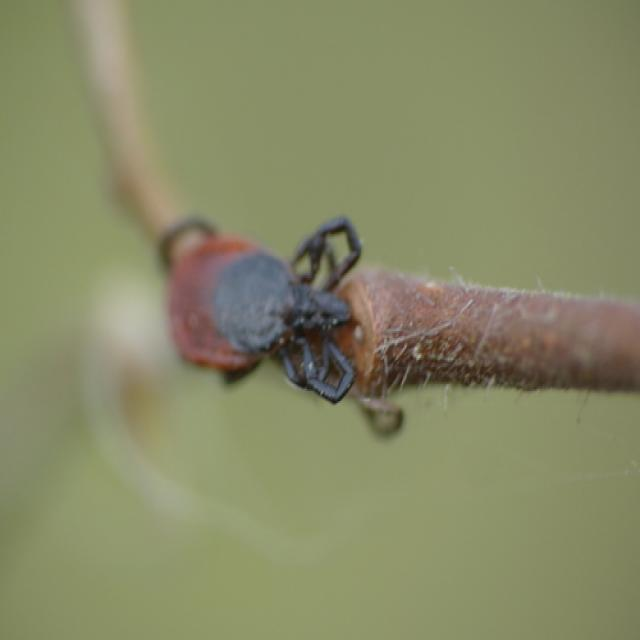Ixodes Ricinus-F: (157, 217, 361, 406)
